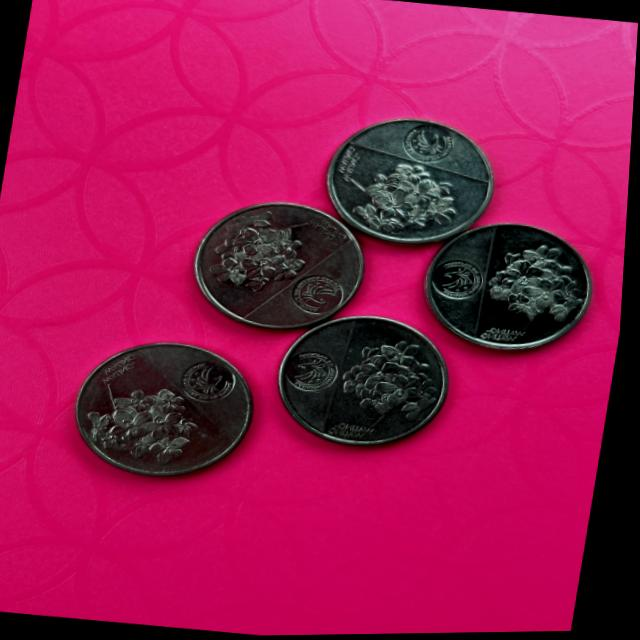1_New_Back: (87, 381, 228, 468), (483, 235, 595, 336), (337, 332, 447, 432), (198, 207, 316, 300), (344, 161, 476, 244)
